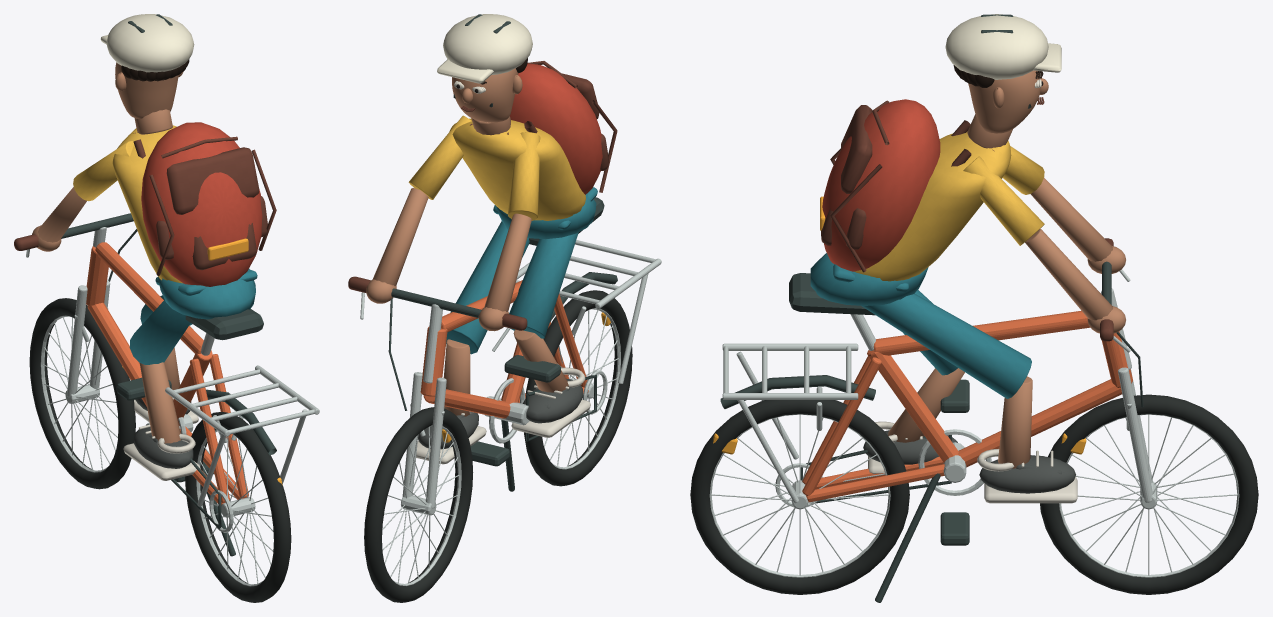
The model's file is courier_bicycle.glb.
3 renders of one model, left to right at view 1: azimuth 30°, elevation 25°; view 2: azimuth 150°, elevation 25°; view 3: azimuth 270°, elevation 25°, orthographic. The views are drawn at different scales.
Visible parts, largest first — view 1: CourierBag, Rear_Tyre, Front_Tyre, HelmetShell, BagFlap, Rider_Shorts, Rider_Torso, Rider_Thigh_L_Mesh, Rider_Shin_L_Mesh, Soft_Head, Frame_Top, UpperArm_L_Mesh (+35 smaller); view 2: Front_Tyre, Rider_Torso, CourierBag, Rear_Tyre, HelmetShell, Rider_Thigh_L_Mesh, Rider_Thigh_R_Mesh, Forearm_R_Mesh, Forearm_L_Mesh, Soft_Head, UpperArm_L_Mesh, UpperArm_R_Mesh (+32 smaller); view 3: CourierBag, Rear_Tyre, Front_Tyre, Rider_Torso, Rider_Thigh_R_Mesh, HelmetShell, Rider_Shorts, Soft_Head, Frame_Top, Forearm_R_Mesh, UpperArm_R_Mesh, Frame_Down (+24 smaller).
Boxes of the visible parts, bbox=[...] form: CourierBag: bbox=[141, 122, 262, 286]; Rear_Tyre: bbox=[185, 412, 291, 602]; Front_Tyre: bbox=[29, 298, 135, 489]; HelmetShell: bbox=[106, 14, 194, 72]; BagFlap: bbox=[166, 147, 259, 214]; Rider_Shorts: bbox=[158, 268, 255, 319]; Rider_Torso: bbox=[112, 125, 182, 283]; Rider_Thigh_L_Mesh: bbox=[129, 300, 190, 364]; Rider_Shin_L_Mesh: bbox=[139, 362, 180, 443]; Soft_Head: bbox=[115, 62, 178, 118]; Frame_Top: bbox=[95, 242, 211, 353]; UpperArm_L_Mesh: bbox=[73, 141, 134, 201]; Front_Tyre: bbox=[364, 407, 473, 602]; Rider_Torso: bbox=[449, 118, 585, 220]; CourierBag: bbox=[510, 63, 602, 194]; Rear_Tyre: bbox=[524, 290, 632, 486]; HelmetShell: bbox=[443, 14, 532, 74]; Rider_Thigh_L_Mesh: bbox=[509, 232, 578, 338]; Rider_Thigh_R_Mesh: bbox=[446, 221, 529, 354]; Forearm_R_Mesh: bbox=[372, 188, 428, 285]; Forearm_L_Mesh: bbox=[484, 213, 531, 311]; Soft_Head: bbox=[452, 68, 518, 122]; UpperArm_L_Mesh: bbox=[508, 132, 540, 220]; UpperArm_R_Mesh: bbox=[408, 115, 471, 199]; CourierBag: bbox=[822, 99, 940, 271]; Rear_Tyre: bbox=[690, 400, 909, 594]; Front_Tyre: bbox=[1040, 394, 1258, 594]; Rider_Torso: bbox=[854, 131, 1011, 281]; Rider_Thigh_R_Mesh: bbox=[862, 293, 1031, 398]; HelmetShell: bbox=[945, 14, 1048, 79]; Rider_Shorts: bbox=[810, 253, 928, 305]; Soft_Head: bbox=[968, 70, 1040, 133]; Frame_Top: bbox=[873, 310, 1090, 355]; Forearm_R_Mesh: bbox=[1025, 228, 1112, 320]; UpperArm_R_Mesh: bbox=[963, 156, 1044, 245]; Frame_Down: bbox=[958, 379, 1122, 467].
Size of the model in its own units: 0.69 by 1.96 by 1.76.
16 materials, 10 textured.
